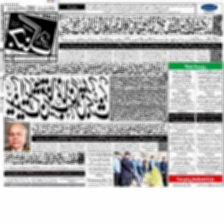news_paper: (0, 0, 224, 187)
